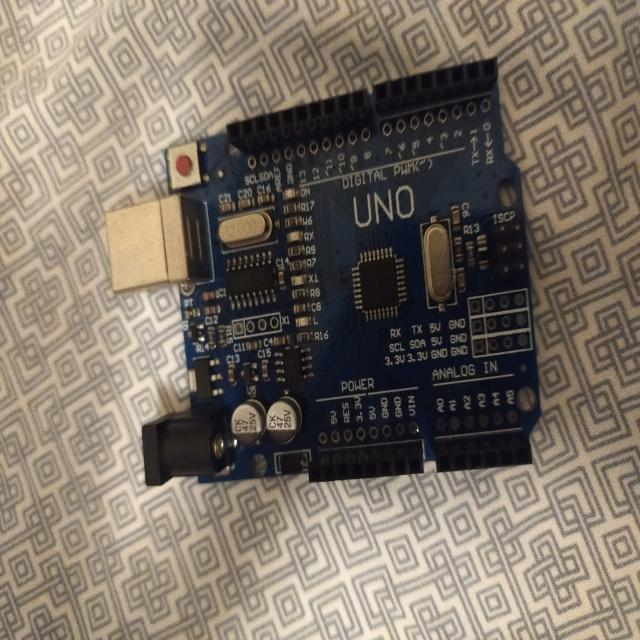arduino: (100, 45, 554, 510)
